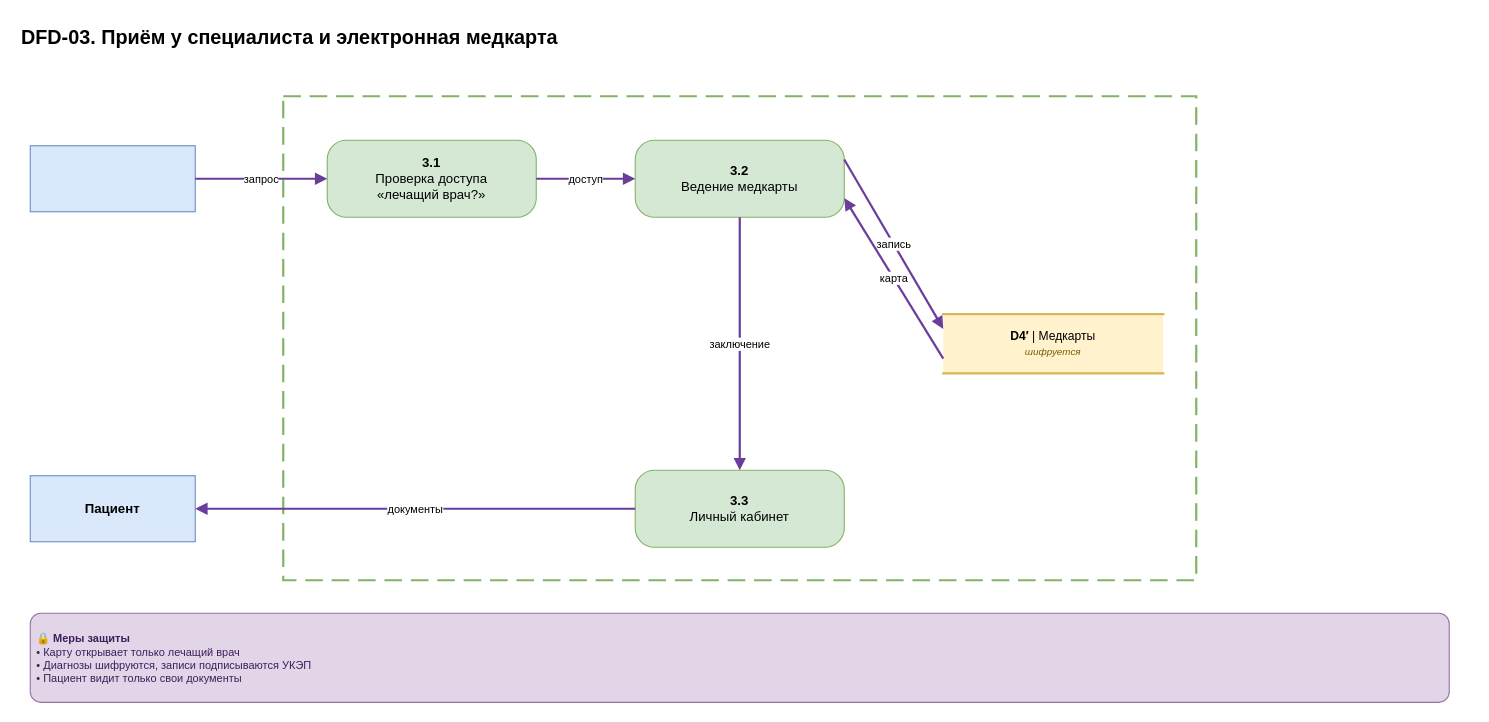
Some shapes in this 1489 by 722 pixel diagram are drawn without their labels. The shapes that lost their labels are listed below. From the top down, each one's box as (x1, y1, x2, y2) in pixels, then its label:
(29, 145, 195, 212): Медицинский специалист
(282, 95, 1197, 581): Защищённый контур
